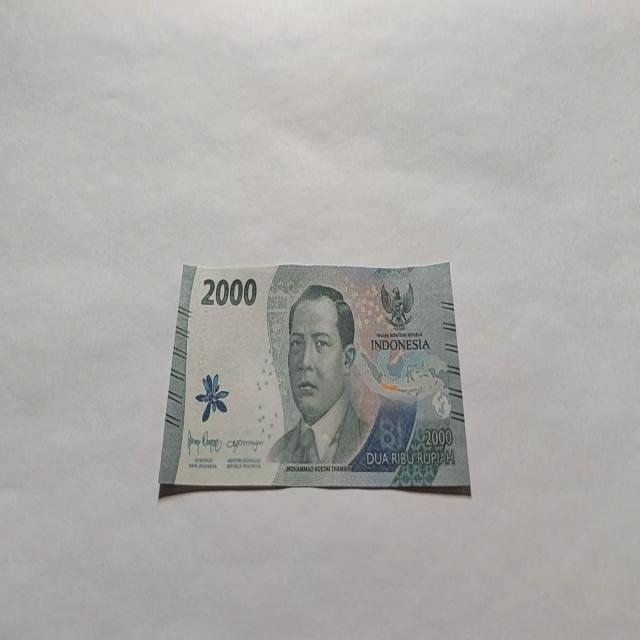dua ribu rupiah: (157, 258, 471, 498), (266, 282, 370, 468)
